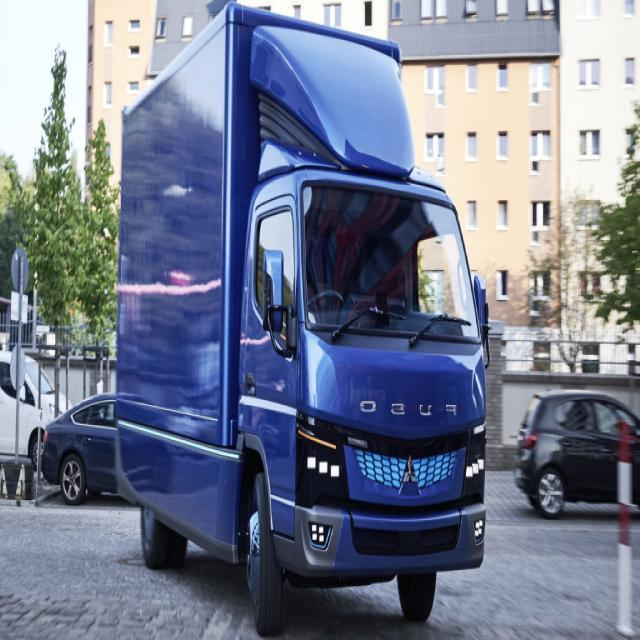truck: (120, 4, 490, 626)
